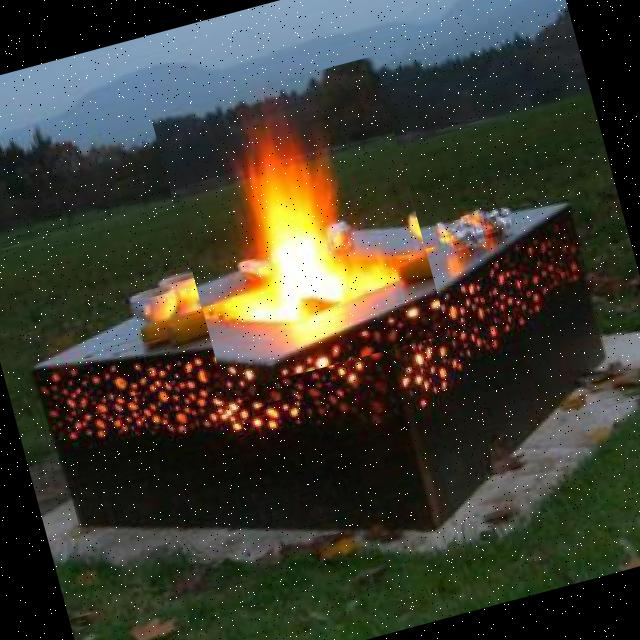fire: (150, 55, 448, 393)
